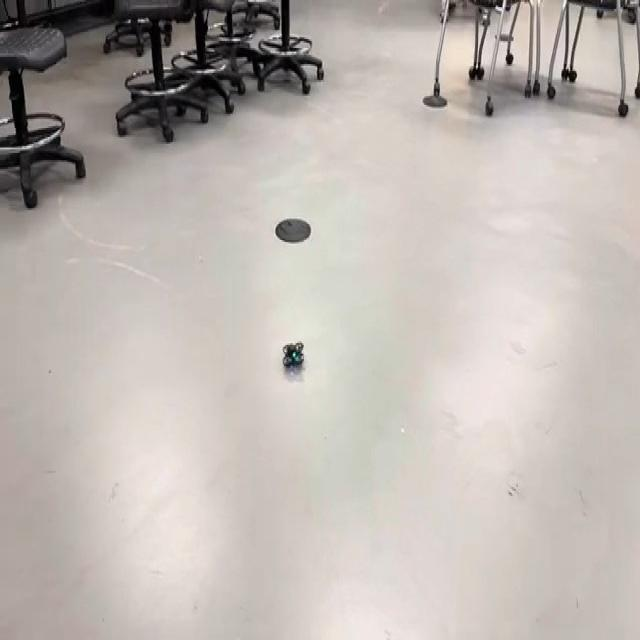drone: (276, 330, 311, 380)
